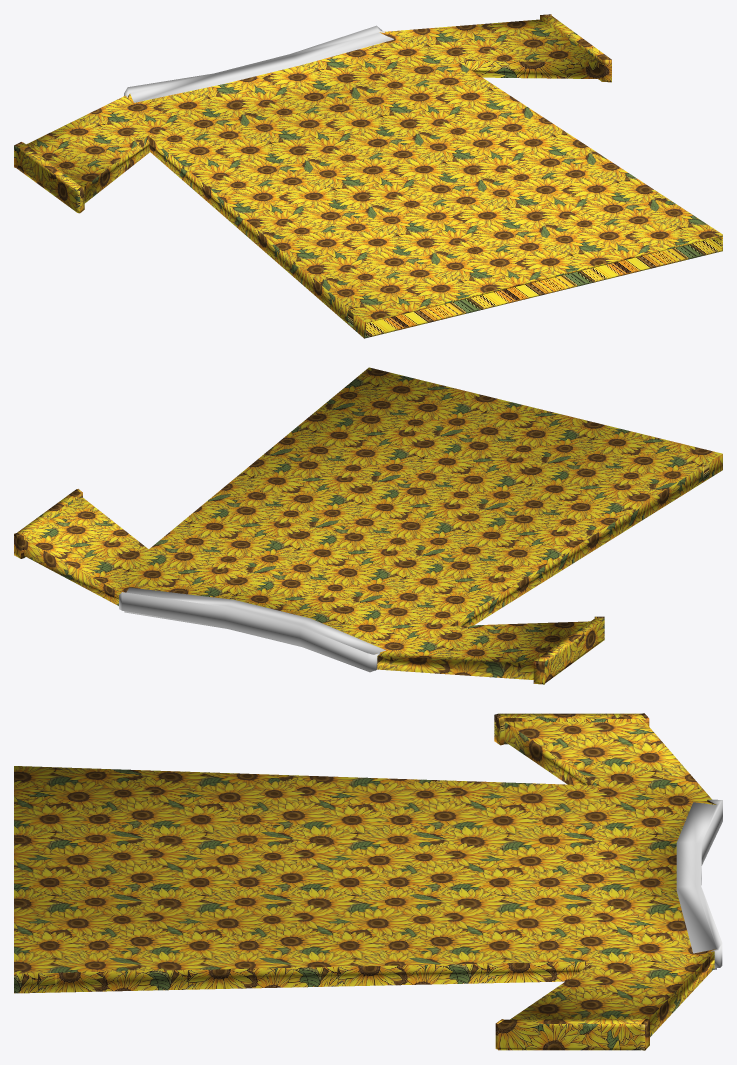
Rendered from shirt6.fbx.
3 views of the same model, one above another, from view 1: azimuth 30°, elevation 25°; view 2: azimuth 150°, elevation 25°; view 3: azimuth 270°, elevation 25° (orthographic). The views are drawn at different scales.
Visible parts, largest first — view 1: shirt6; view 2: shirt6; view 3: shirt6.
Part boxes in pixels (bbox=[...]): shirt6: bbox=[14, 14, 722, 338]; shirt6: bbox=[14, 367, 722, 684]; shirt6: bbox=[14, 713, 722, 1050].
Bounding box in the file's own units: 0.678 × 0.0286 × 0.6519.
Materials: 2 (1 with a texture image).
